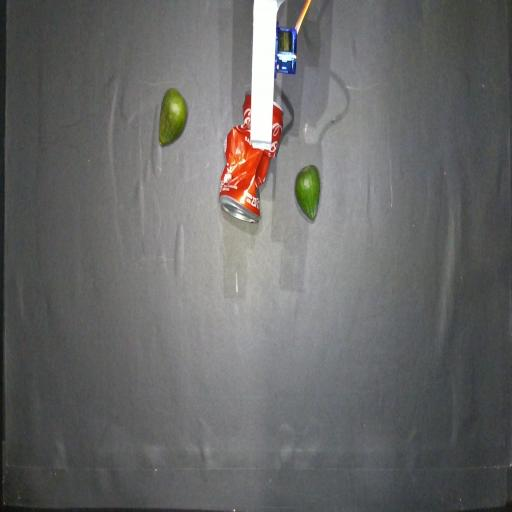higo: (159, 88, 187, 146), (296, 166, 320, 219)
lata_defectuoso: (219, 94, 282, 222)
